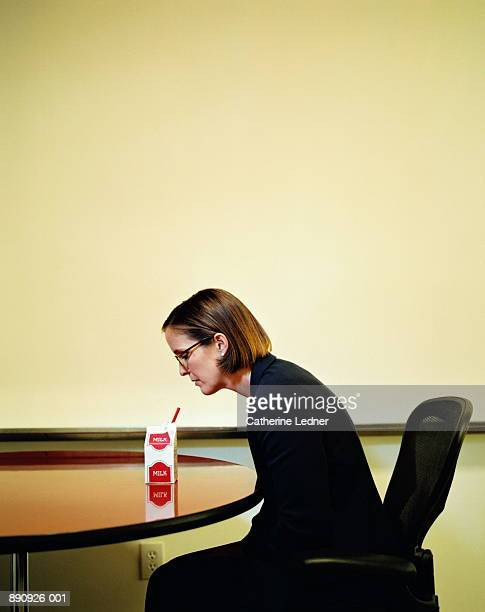carton: (120, 397, 191, 495)
